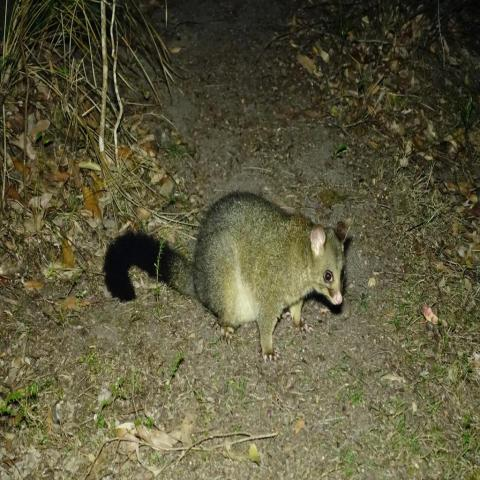small_animal: (102, 188, 353, 363)
